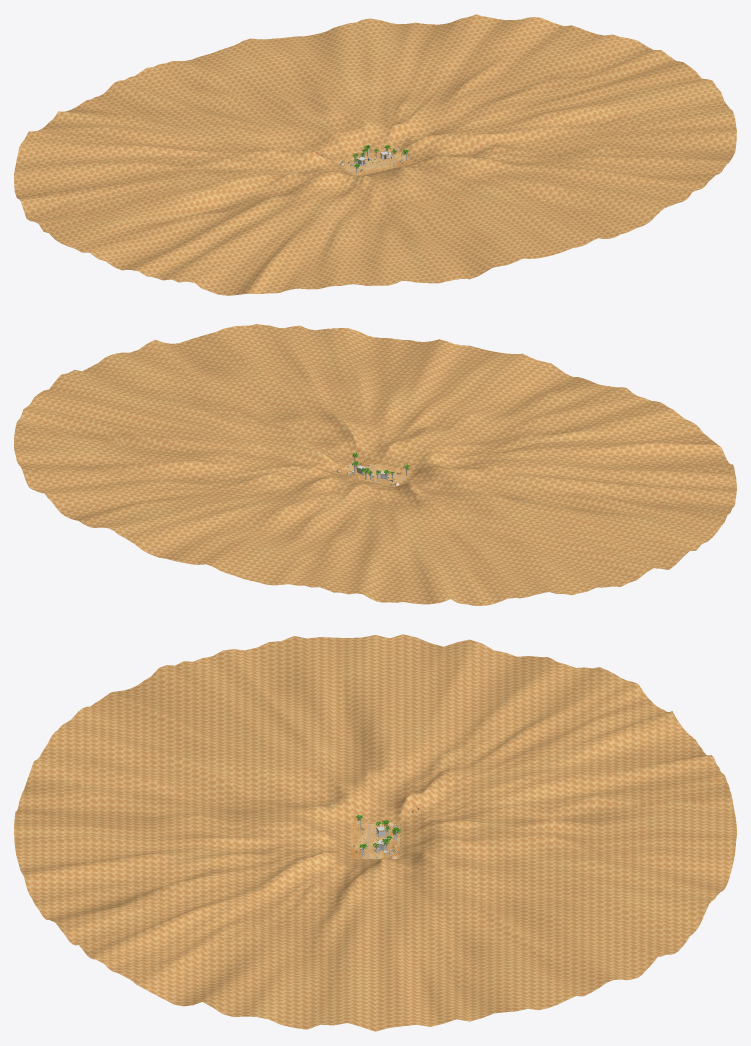
Rendered from desert-road.glb.
3 renders of one model, top to bottom at view 1: azimuth 30°, elevation 25°; view 2: azimuth 150°, elevation 25°; view 3: azimuth 270°, elevation 25°, orthographic. The views are drawn at different scales.
Visible parts, largest first — view 1: ground_far, ground; view 2: ground_far, ground; view 3: ground_far, ground.
Boxes of the visible parts, x1=… form: ground_far: x1=14, y1=14, x2=736, y2=295; ground: x1=337, y1=148, x2=413, y2=175; ground_far: x1=14, y1=324, x2=736, y2=605; ground: x1=337, y1=458, x2=413, y2=486; ground_far: x1=14, y1=634, x2=736, y2=1031; ground: x1=351, y1=823, x2=399, y2=858.
Size of the model in its own units: 988 by 21.37 by 772.
Materials: 25 (18 with a texture image).
